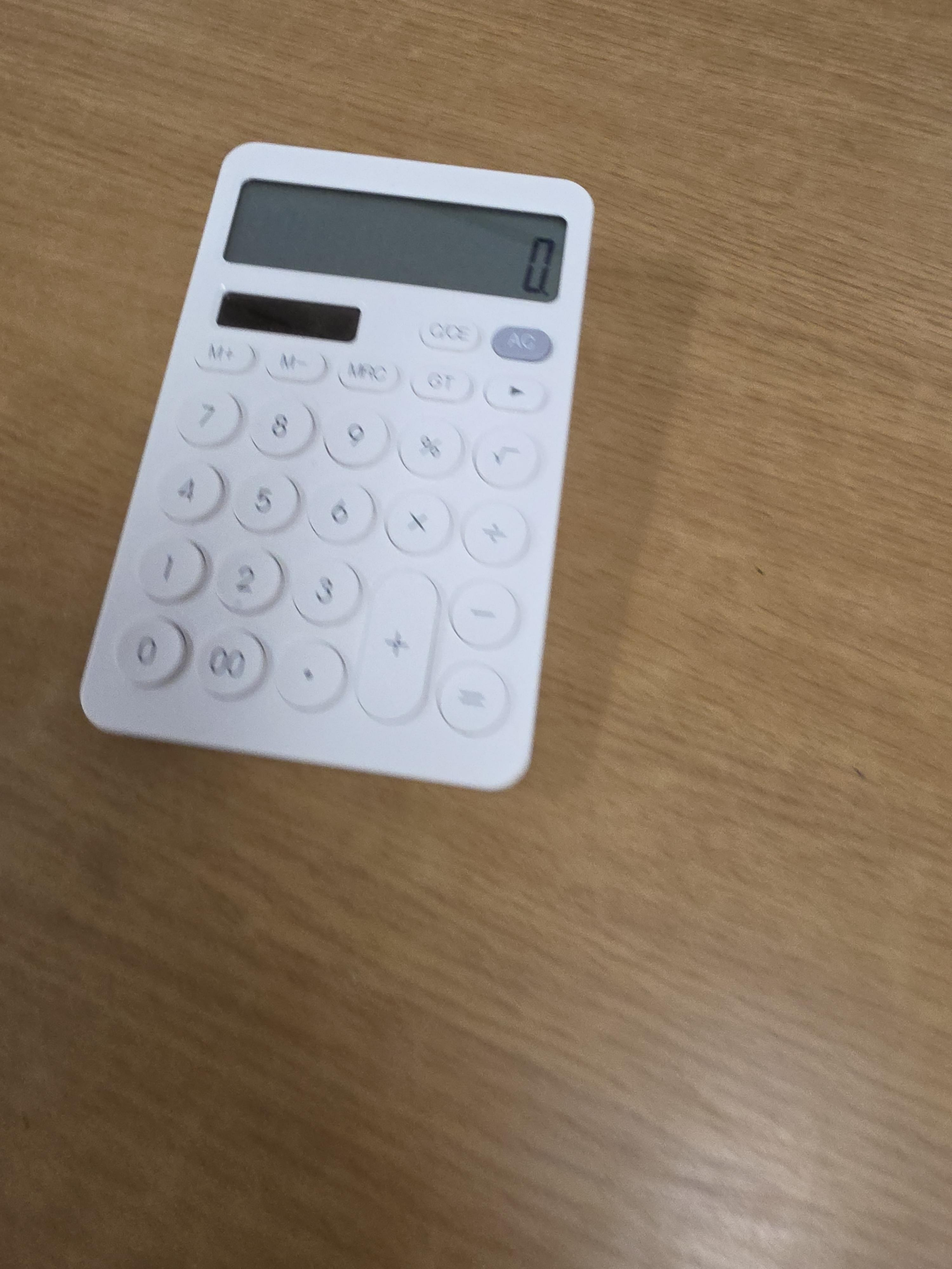calculator: (79, 141, 596, 791)
